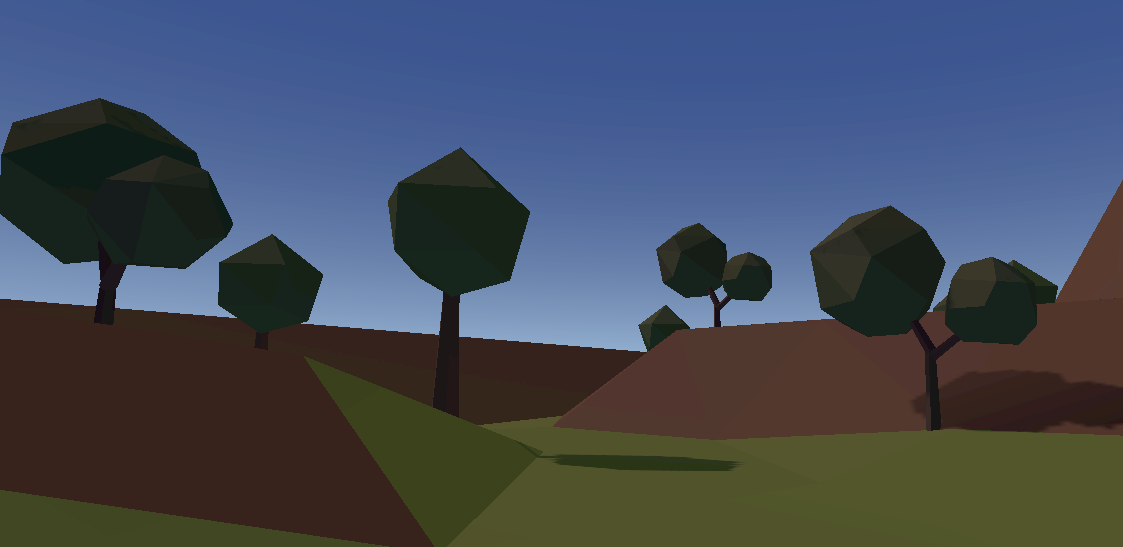tree: (1, 98, 231, 322), (810, 207, 1039, 430), (387, 148, 541, 426), (654, 222, 784, 326), (218, 230, 330, 348), (634, 304, 693, 352)
